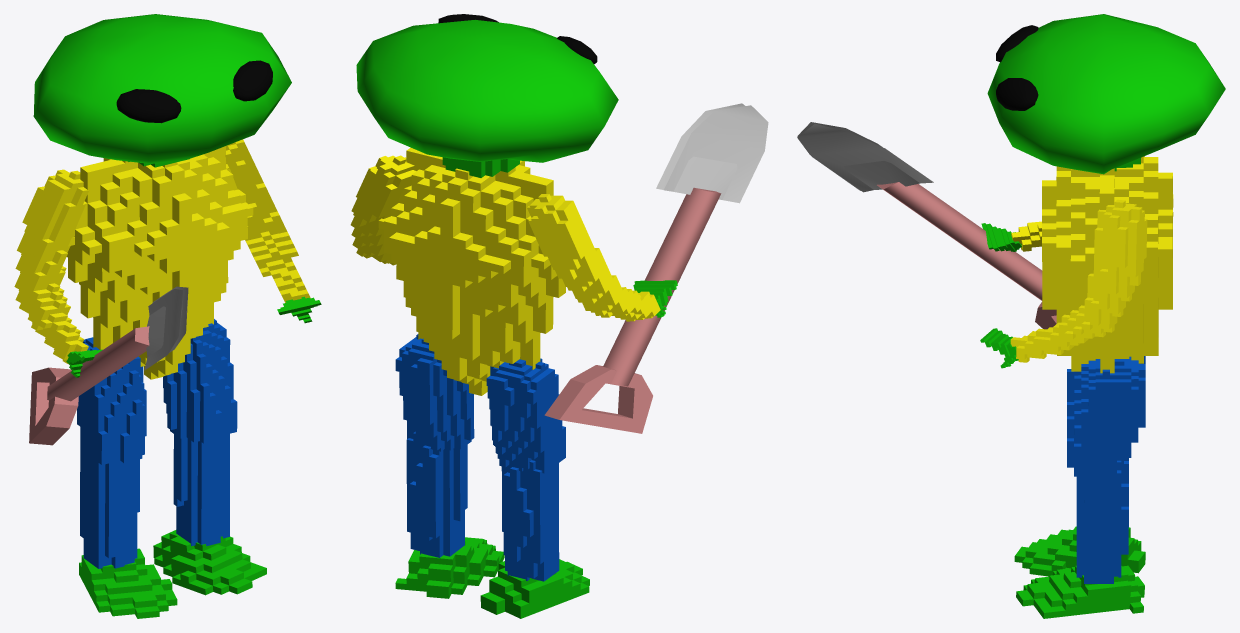
Rendered from Repton.fbx.
3 renders of one model, left to right at view 1: azimuth 30°, elevation 25°; view 2: azimuth 150°, elevation 25°; view 3: azimuth 270°, elevation 25°, orthographic.
Parts seen in each view (by area): view 1: Head, Repton, Arm, LtUpperLimb, RtLowerLimb, RtUpperLimb, LtLowerLimb, Arm01, LtFoot, RtFoot, Cylinder01.001, Line02 (+4 smaller); view 2: Head, Repton, Arm, RtUpperLimb, LtLowerLimb, RtLowerLimb, LtUpperLimb, Cylinder01.001, Line03, Line02, LtFoot, Arm01 (+4 smaller); view 3: Head, Repton, Arm01, LtUpperLimb, LtLowerLimb, LtFoot, Cylinder01.001, Line01, RtFoot, Line03, Hand01, Hand (+1 smaller).
Part boxes in pixels (box(x1,y1,x2,y2)): Head: box(33, 14, 291, 163); Repton: box(66, 146, 253, 379); Arm: box(14, 169, 89, 363); LtUpperLimb: box(163, 319, 237, 443); RtLowerLimb: box(80, 449, 139, 568); RtUpperLimb: box(77, 337, 146, 464); LtLowerLimb: box(173, 433, 229, 546); Arm01: box(225, 139, 310, 302); LtFoot: box(153, 530, 266, 595); RtFoot: box(79, 548, 177, 618); Cylinder01.001: box(47, 326, 149, 401); Line02: box(29, 367, 78, 445); Head: box(356, 14, 618, 162); Repton: box(378, 147, 565, 395); Arm: box(527, 194, 660, 321); RtUpperLimb: box(486, 358, 565, 473); LtLowerLimb: box(406, 431, 467, 557); RtLowerLimb: box(501, 460, 559, 581); LtUpperLimb: box(395, 334, 474, 451); Cylinder01.001: box(603, 187, 721, 386); Line03: box(664, 105, 768, 203); Line02: box(544, 365, 652, 433); LtFoot: box(395, 537, 504, 598); Arm01: box(350, 155, 416, 265); Head: box(987, 14, 1225, 174); Repton: box(1042, 156, 1173, 373); Arm01: box(1010, 199, 1147, 362); LtUpperLimb: box(1067, 356, 1145, 476); LtLowerLimb: box(1076, 460, 1128, 583); LtFoot: box(1016, 565, 1144, 618); Cylinder01.001: box(877, 182, 1056, 310); Line01: box(797, 123, 933, 192); RtFoot: box(1014, 526, 1145, 576); Line03: box(797, 122, 919, 190); Hand01: box(980, 328, 1018, 368); Hand: box(981, 223, 1021, 251).
Bounding box in the file's own units: 177 × 341 × 244.
